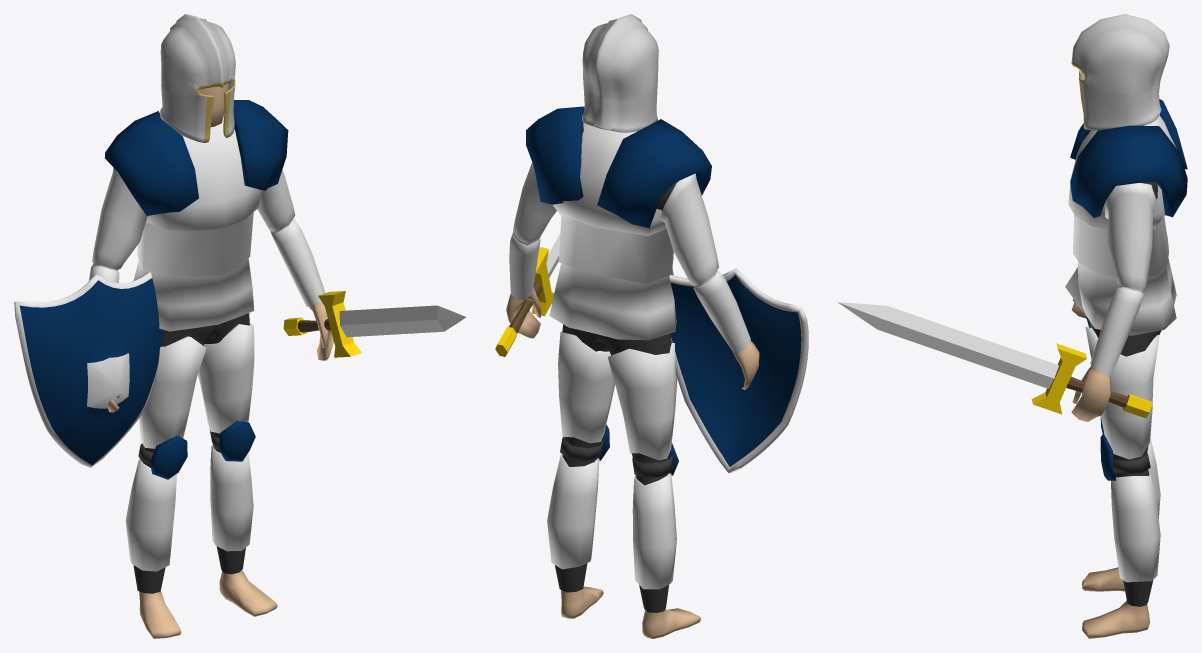
File: playerfinish.fbx
The picture shows the model from 3 angles, left to right: view 1: azimuth 30°, elevation 25°; view 2: azimuth 150°, elevation 25°; view 3: azimuth 270°, elevation 25°; orthographic projection.
Visible parts, largest first — view 1: Platebody, Platelegs, Shield, Helmet, Cylinder, Cube; view 2: Platebody, Platelegs, Shield, Helmet, Cube, Cylinder; view 3: Platebody, Platelegs, Helmet, Cylinder, Cube.
Part boxes in pixels (bbox=[...]): Platebody: bbox=[89, 100, 325, 331]; Platelegs: bbox=[125, 313, 255, 593]; Shield: bbox=[14, 272, 162, 468]; Helmet: bbox=[160, 14, 235, 142]; Cylinder: bbox=[283, 291, 466, 357]; Cube: bbox=[107, 83, 333, 638]; Platebody: bbox=[509, 106, 750, 352]; Platelegs: bbox=[547, 324, 678, 612]; Shield: bbox=[669, 268, 808, 473]; Helmet: bbox=[582, 14, 658, 132]; Cube: bbox=[506, 288, 759, 638]; Cylinder: bbox=[495, 234, 560, 356]; Platebody: bbox=[1068, 99, 1187, 375]; Platelegs: bbox=[1085, 320, 1161, 606]; Helmet: bbox=[1071, 14, 1169, 130]; Cylinder: bbox=[837, 302, 1152, 418]; Cube: bbox=[1071, 76, 1149, 638].
Bounding box in the file's own units: 100 × 184 × 98.13.
